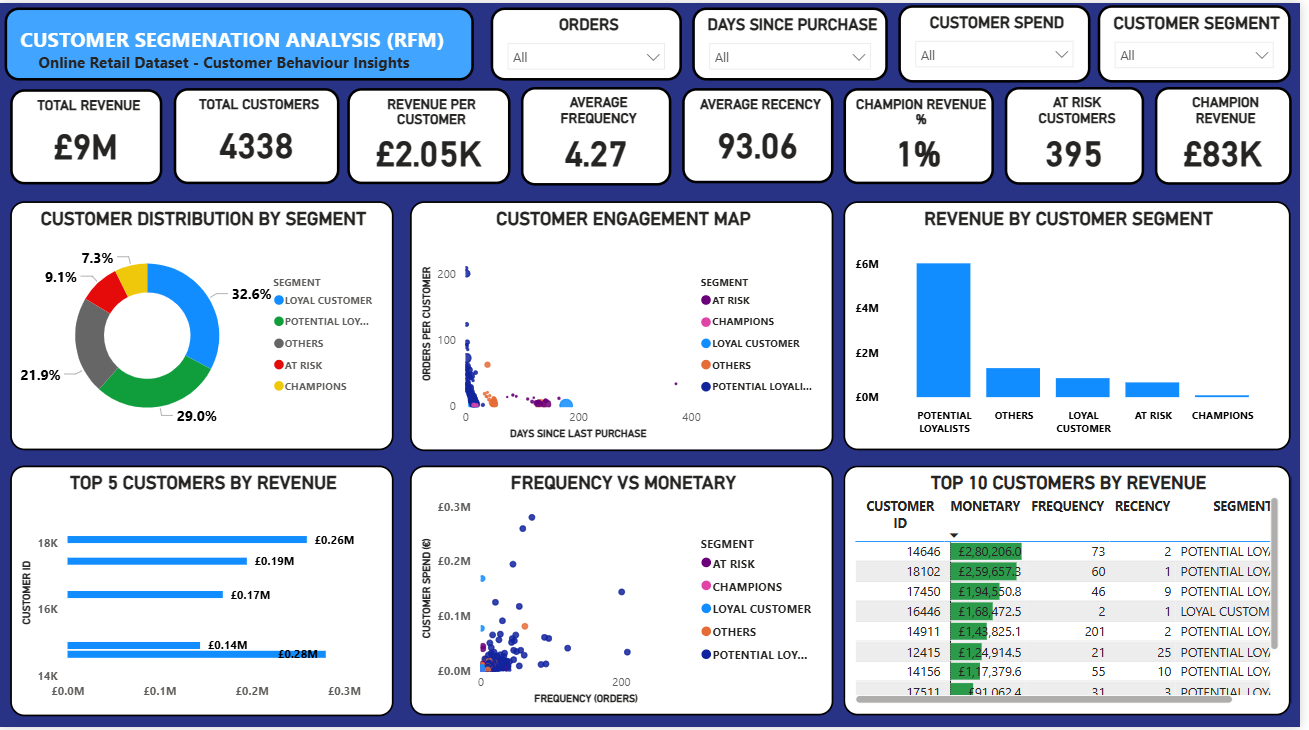

Layout of this report page (visuals, bound fields, positions):
{"tool":"powerbi","page":{"name":"DASHBOARD","canvas":[1366,760],"ordinal":0},"visuals":[{"type":"donutChart","title":"CUSTOMER DISTRIBUTION BY SEGMENT ","fields":{"Y":["CountNonNull(rfm_scores.CUSTOMERID)"],"Category":["rfm_scores.SEGMENT"]},"box":[11.5,208.4,402.6,261.7],"z":0},{"type":"columnChart","title":"REVENUE BY CUSTOMER SEGMENT","fields":{"Category":["rfm_scores.SEGMENT"],"Y":["Sum(rfm_scores.MONETARY)"]},"box":[887.1,208.7,469.4,261.2],"z":1000},{"type":"scatterChart","title":"CUSTOMER ENGAGEMENT MAP","fields":{"X":["rfm_scores.RECENCY"],"Y":["rfm_scores.FREQUENCY"],"Series":["rfm_scores.SEGMENT"],"Size":["Sum(rfm_scores.MONETARY)"]},"box":[431.8,208.1,444.7,262.4],"z":2000},{"type":"tableEx","title":"TOP 10 CUSTOMERS BY REVENUE","fields":{"Values":["rfm_scores.CUSTOMERID","rfm_scores.MONETARY","rfm_scores.FREQUENCY","rfm_scores.RECENCY","rfm_scores.SEGMENT"]},"box":[887.1,485.7,469.4,262.4],"z":3000},{"type":"card","title":"TOTAL REVENUE","fields":{"Values":["measure.Total Revenue"]},"box":[12,90,159.8,99.6],"z":4000},{"type":"card","title":"TOTAL CUSTOMERS","fields":{"Values":["measure.Total Customers"]},"box":[183.9,89.5,174,100.7],"z":5000},{"type":"card","title":"AVERAGE FREQUENCY","fields":{"Values":["measure.Aberage Frequency"]},"box":[547.7,88.1,158,103.4],"z":6000},{"type":"card","title":"AVERAGE RECENCY","fields":{"Values":["measure.Average Recency"]},"box":[718.2,89.8,159.1,100],"z":7000},{"type":"card","title":"CHAMPION REVENUE %","fields":{"Values":["measure.Champion Revenue%"]},"box":[887.5,89.2,158,101.1],"z":8000},{"type":"card","title":"REVENUE PER CUSTOMER ","fields":{"Values":["measure.Average Customer Value"]},"box":[365.9,89.2,171.6,101.1],"z":9000},{"type":"barChart","title":"TOP 5 CUSTOMERS BY REVENUE","fields":{"Y":["Sum(rfm_scores.MONETARY)"],"Category":["rfm_scores.CUSTOMER ID"]},"box":[11.8,485.9,402.4,263.5],"z":10000},{"type":"scatterChart","title":"FREQUENCY VS MONETARY","fields":{"X":["rfm_scores.FREQUENCY"],"Y":["rfm_scores.MONETARY"],"Series":["rfm_scores.SEGMENT"],"Size":["CountNonNull(rfm_scores.RECENCY)"]},"box":[431.8,485.7,444.7,262.4],"z":11000},{"type":"slicer","title":"CUSTOMER SEGMENT","fields":{"Values":["rfm_scores.SEGMENT"]},"box":[1153.9,2,202.6,80.9],"z":12000},{"type":"slicer","title":"ORDERS","fields":{"Values":["rfm_scores.FREQUENCY"]},"box":[516.5,4.2,200.9,76.5],"z":13000},{"type":"slicer","title":"CUSTOMER SPEND","fields":{"Values":["rfm_scores.MONETARY"]},"box":[944.3,2,201.7,80.9],"z":14000},{"type":"slicer","title":"DAYS SINCE PURCHASE","fields":{"Values":["rfm_scores.RECENCY"]},"box":[727.8,4.2,205.2,76.5],"z":15000},{"type":"card","title":"AT RISK CUSTOMERS","fields":{"Values":["measure.Customer Retention Risk"]},"box":[1056.1,88.4,146.6,102.9],"z":16000},{"type":"card","title":"CHAMPION REVENUE","fields":{"Values":["measure.Champions"]},"box":[1213.6,88.4,143.4,102.9],"z":17000},{"type":"textbox","box":[6.1,4.2,493,76.5],"z":18000}]}

Visuals, with their boxes in screenshot pixels (x1, y1, x2, y2), scaled from the page's 1366x760 canvas onto the 1309x730 screenshot:
"CUSTOMER DISTRIBUTION BY SEGMENT " donutChart: [11, 200, 397, 452]
"REVENUE BY CUSTOMER SEGMENT" columnChart: [850, 200, 1300, 451]
"CUSTOMER ENGAGEMENT MAP" scatterChart: [414, 200, 840, 452]
"TOP 10 CUSTOMERS BY REVENUE" tableEx: [850, 467, 1300, 719]
"TOTAL REVENUE" card: [11, 86, 165, 182]
"TOTAL CUSTOMERS" card: [176, 86, 343, 183]
"AVERAGE FREQUENCY" card: [525, 85, 676, 184]
"AVERAGE RECENCY" card: [688, 86, 841, 182]
"CHAMPION REVENUE %" card: [850, 86, 1002, 183]
"REVENUE PER CUSTOMER " card: [351, 86, 515, 183]
"TOP 5 CUSTOMERS BY REVENUE" barChart: [11, 467, 397, 720]
"FREQUENCY VS MONETARY" scatterChart: [414, 467, 840, 719]
"CUSTOMER SEGMENT" slicer: [1106, 2, 1300, 80]
"ORDERS" slicer: [495, 4, 687, 78]
"CUSTOMER SPEND" slicer: [905, 2, 1098, 80]
"DAYS SINCE PURCHASE" slicer: [697, 4, 894, 78]
"AT RISK CUSTOMERS" card: [1012, 85, 1153, 184]
"CHAMPION REVENUE" card: [1163, 85, 1300, 184]
textbox: [6, 4, 478, 78]
